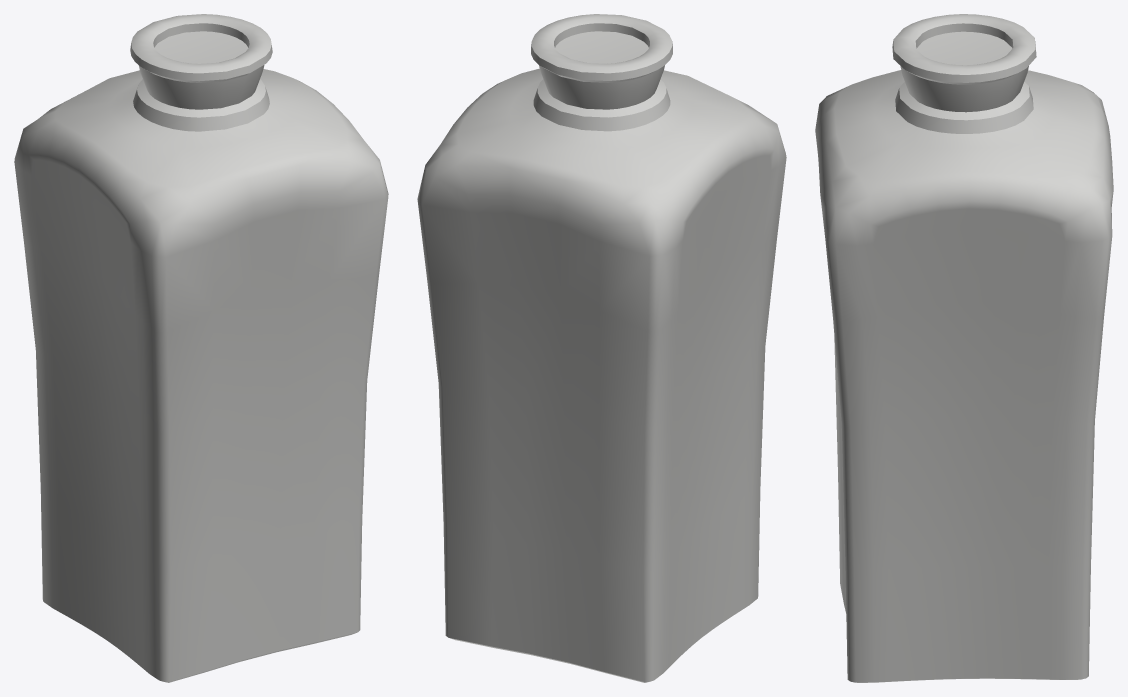
Rendered from SmallWhitePots003.FBX.
The picture shows the model from 3 angles, left to right: view 1: azimuth 30°, elevation 25°; view 2: azimuth 150°, elevation 25°; view 3: azimuth 270°, elevation 25°; orthographic projection. The views are drawn at different scales.
Visible parts, largest first — view 1: SmallWhitePots003; view 2: SmallWhitePots003; view 3: SmallWhitePots003.
Part boxes in pixels (bbox=[...]): SmallWhitePots003: bbox=[14, 14, 388, 682]; SmallWhitePots003: bbox=[417, 14, 786, 682]; SmallWhitePots003: bbox=[815, 14, 1113, 682].
Bounding box in the file's own units: 0.4204 × 0.9169 × 0.4174.
Materials: 1 (1 with a texture image).
